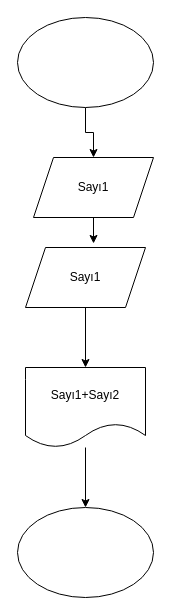
This 171x615 diagram has some shape labels left out. The centre of each missing label's shape, as x and y in pixels:
Başla: pixel 85 62
Bitir: pixel 85 552
